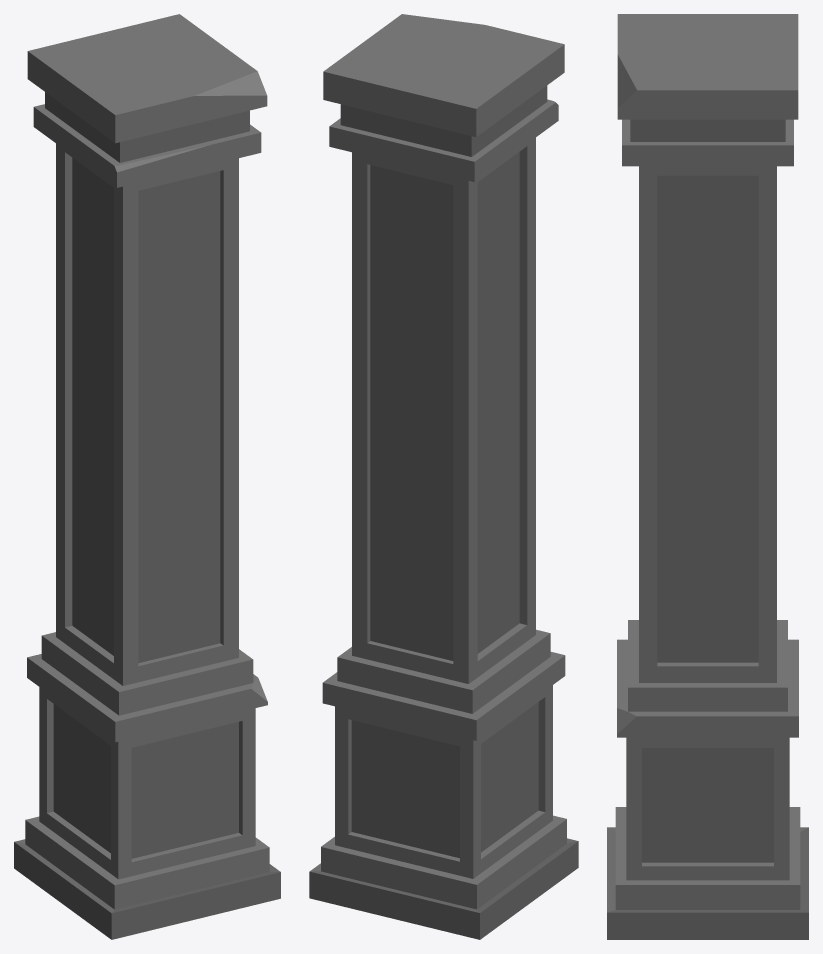
File: Ruins_02.fbx
3 renders of one model, left to right at view 1: azimuth 30°, elevation 25°; view 2: azimuth 150°, elevation 25°; view 3: azimuth 270°, elevation 25°, orthographic. The views are drawn at different scales.
Visible parts, largest first — view 1: Ruins_02_LOD0; view 2: Ruins_02_LOD0; view 3: Ruins_02_LOD0.
Part boxes in pixels (x1=…): Ruins_02_LOD0: x1=14, y1=14, x2=280, y2=939; Ruins_02_LOD0: x1=309, y1=14, x2=578, y2=939; Ruins_02_LOD0: x1=607, y1=14, x2=808, y2=939.
Size of what is drawn, in the model's own units: 0.5369 by 2.48 by 0.5369.
